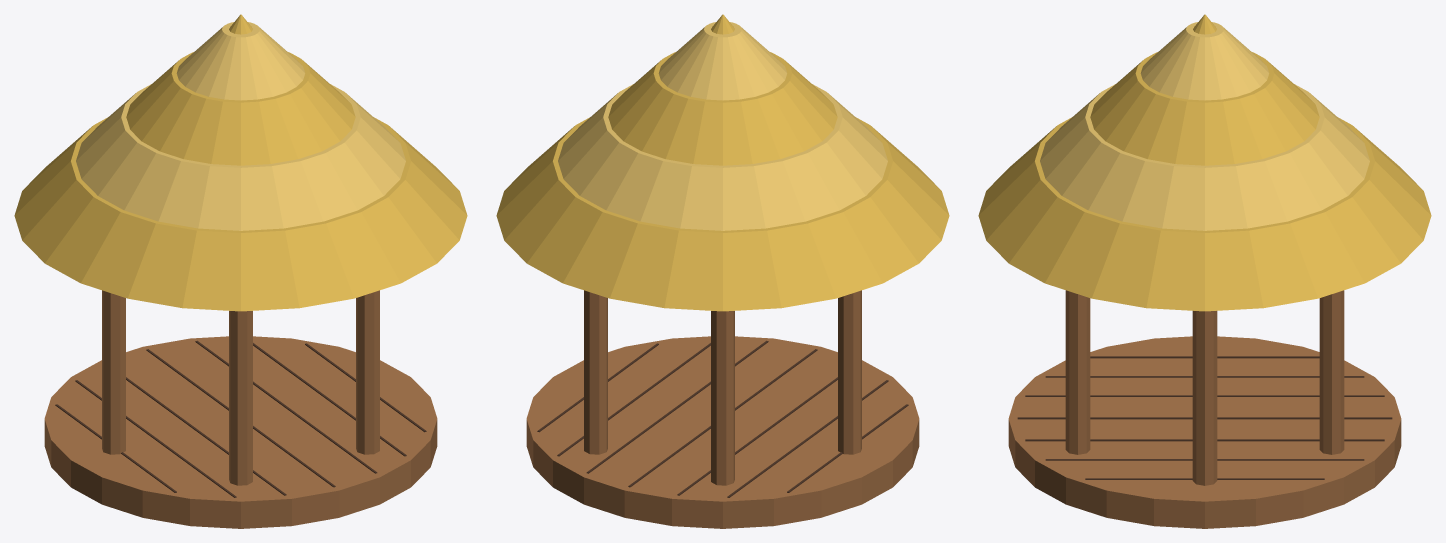
The model's file is tiki-hut.glb.
The picture shows the model from 3 angles, left to right: view 1: azimuth 30°, elevation 25°; view 2: azimuth 150°, elevation 25°; view 3: azimuth 270°, elevation 25°; orthographic projection.
Parts seen in each view (by area): view 1: Round timber platform, Golden thatch roof tier 1, Golden thatch roof tier 2, Golden thatch roof tier 3, Golden thatch roof tier 4, Wooden support post 5, Wooden support post 6, Wooden support post 4, Platform board seam.003, Platform board seam.004; view 2: Round timber platform, Golden thatch roof tier 1, Golden thatch roof tier 2, Golden thatch roof tier 3, Golden thatch roof tier 4, Wooden support post 3, Wooden support post 2, Wooden support post 4, Platform board seam.003, Platform board seam.004; view 3: Round timber platform, Golden thatch roof tier 1, Golden thatch roof tier 2, Golden thatch roof tier 3, Golden thatch roof tier 4, Wooden support post 1, Wooden support post 2, Wooden support post 6, Platform board seam.003, Platform board seam.004, Platform board seam, Platform board seam.005 (+1 smaller).
Part boxes in pixels (x1=…): Round timber platform: x1=44, y1=336, x2=437, y2=528; Golden thatch roof tier 1: x1=14, y1=117, x2=467, y2=311; Golden thatch roof tier 2: x1=76, y1=84, x2=405, y2=230; Golden thatch roof tier 3: x1=126, y1=52, x2=355, y2=165; Golden thatch roof tier 4: x1=176, y1=22, x2=305, y2=100; Wooden support post 5: x1=229, y1=311, x2=252, y2=485; Wooden support post 6: x1=356, y1=290, x2=379, y2=454; Wooden support post 4: x1=102, y1=290, x2=125, y2=454; Platform board seam.003: x1=146, y1=349, x2=335, y2=487; Platform board seam.004: x1=195, y1=340, x2=377, y2=473; Round timber platform: x1=526, y1=336, x2=919, y2=528; Golden thatch roof tier 1: x1=496, y1=117, x2=949, y2=311; Golden thatch roof tier 2: x1=558, y1=84, x2=887, y2=230; Golden thatch roof tier 3: x1=608, y1=52, x2=837, y2=165; Golden thatch roof tier 4: x1=658, y1=22, x2=787, y2=100; Wooden support post 3: x1=711, y1=311, x2=734, y2=485; Wooden support post 2: x1=584, y1=290, x2=607, y2=454; Wooden support post 4: x1=838, y1=290, x2=861, y2=454; Platform board seam.003: x1=628, y1=349, x2=817, y2=487; Platform board seam.004: x1=586, y1=340, x2=768, y2=473; Round timber platform: x1=1008, y1=336, x2=1401, y2=528; Golden thatch roof tier 1: x1=978, y1=117, x2=1431, y2=311; Golden thatch roof tier 2: x1=1040, y1=84, x2=1369, y2=230; Golden thatch roof tier 3: x1=1090, y1=52, x2=1319, y2=165; Golden thatch roof tier 4: x1=1140, y1=22, x2=1269, y2=100; Wooden support post 1: x1=1192, y1=311, x2=1217, y2=485; Wooden support post 2: x1=1319, y1=290, x2=1344, y2=454; Wooden support post 6: x1=1065, y1=290, x2=1090, y2=454; Platform board seam.003: x1=1017, y1=417, x2=1392, y2=419; Platform board seam.004: x1=1025, y1=439, x2=1384, y2=441; Platform board seam: x1=1090, y1=356, x2=1319, y2=358; Platform board seam.005: x1=1045, y1=459, x2=1364, y2=460.
Size of the model in its own units: 3.46 by 3.64 by 3.46.
